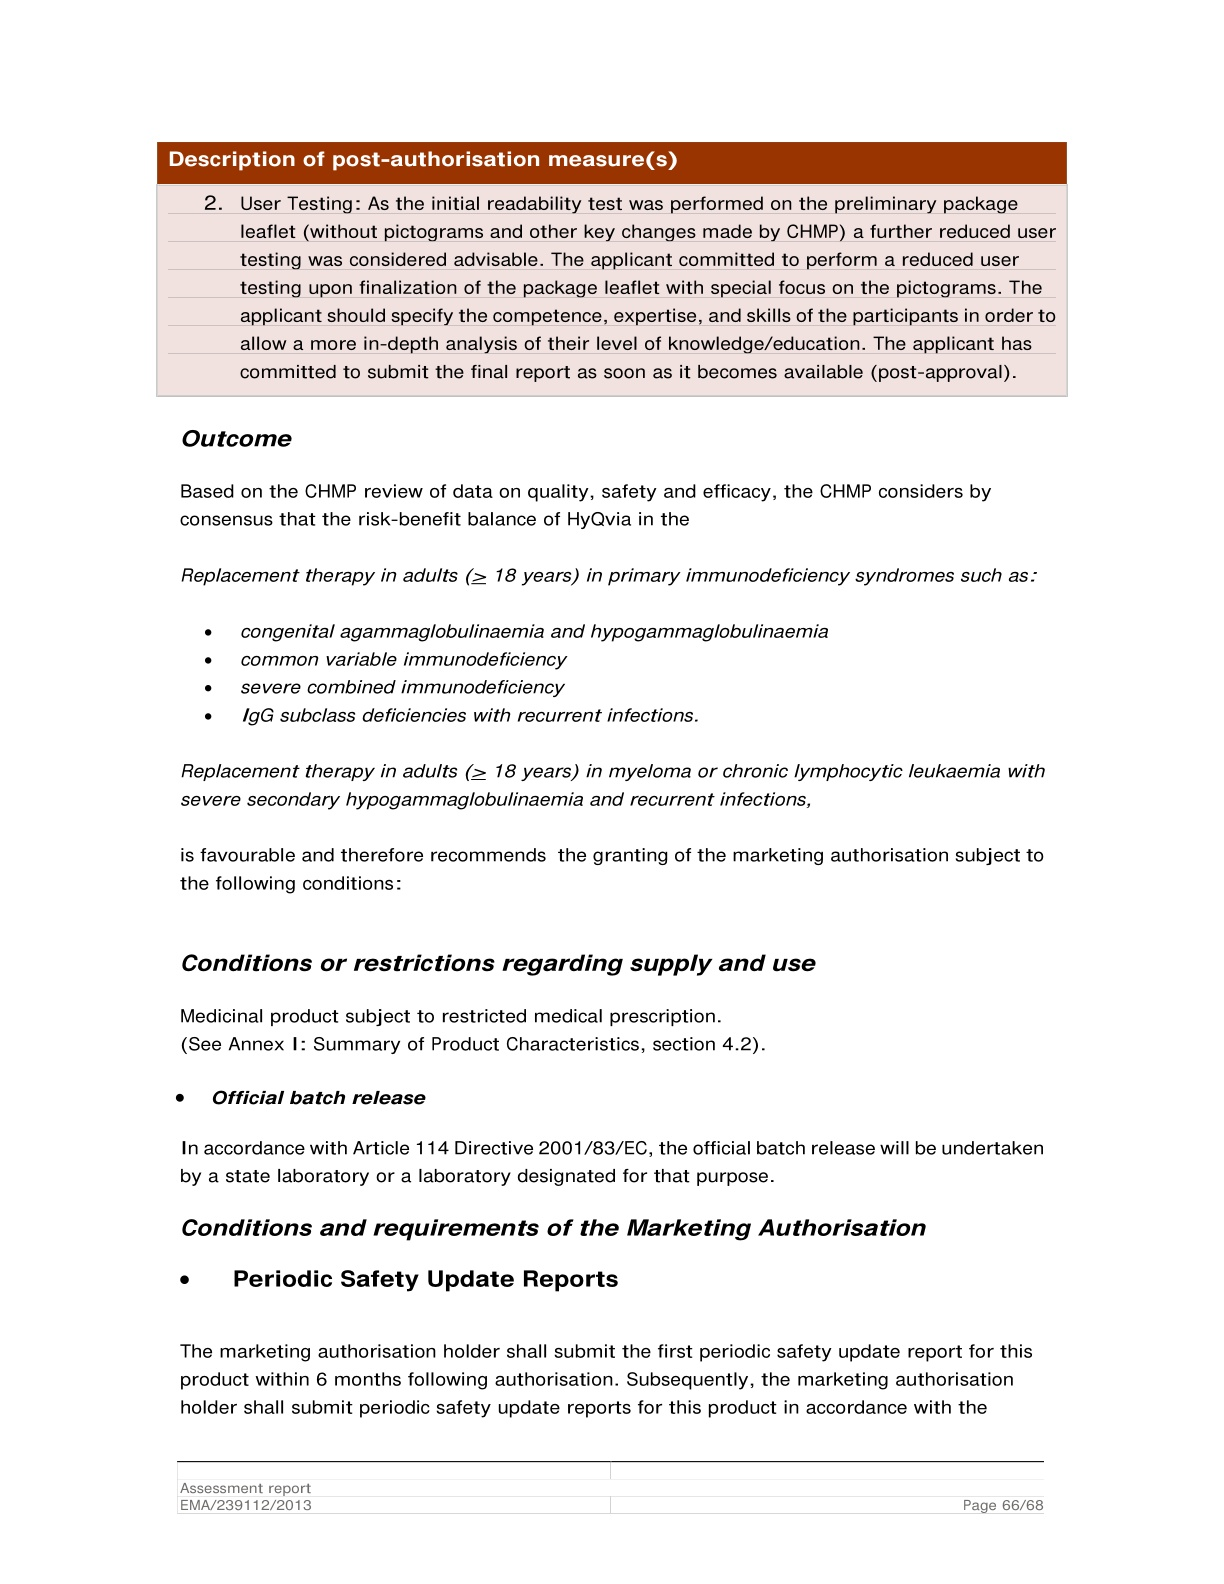merged_cells: (176, 1459, 1047, 1516)
partial_lined: (157, 141, 1068, 397)
